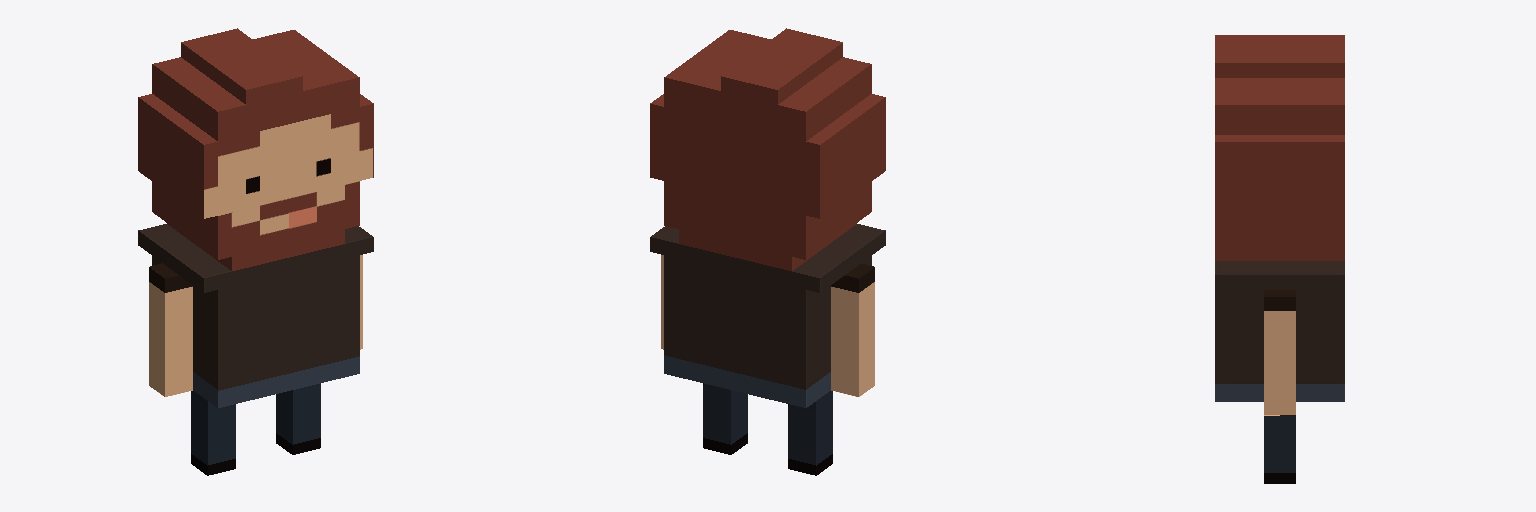
3 renders of one model, left to right at view 1: azimuth 30°, elevation 25°; view 2: azimuth 150°, elevation 25°; view 3: azimuth 270°, elevation 25°, orthographic.
Visible parts, largest first — view 1: head_Plane, body_Plane.001, arm.r_Plane.007, leg.r_Plane.002, leg.l_Plane.005; view 2: head_Plane, body_Plane.001, arm.r_Plane.007, leg.r_Plane.002, leg.l_Plane.005; view 3: head_Plane, body_Plane.001, arm.l_Plane.006, leg.l_Plane.005.
Part boxes in pixels (bbox=[...]): head_Plane: bbox=[138, 28, 373, 270]; body_Plane.001: bbox=[138, 224, 373, 407]; arm.r_Plane.007: bbox=[149, 263, 192, 396]; leg.r_Plane.002: bbox=[191, 391, 235, 475]; leg.l_Plane.005: bbox=[276, 383, 320, 454]; head_Plane: bbox=[650, 28, 885, 270]; body_Plane.001: bbox=[650, 224, 885, 407]; arm.r_Plane.007: bbox=[831, 263, 874, 396]; leg.r_Plane.002: bbox=[788, 391, 832, 475]; leg.l_Plane.005: bbox=[703, 383, 747, 454]; head_Plane: bbox=[1215, 35, 1344, 260]; body_Plane.001: bbox=[1215, 261, 1344, 401]; arm.l_Plane.006: bbox=[1264, 290, 1295, 415]; leg.l_Plane.005: bbox=[1264, 416, 1295, 483].
Bounding box in the file's own units: 0.0899 × 0.1734 × 0.0514.
4 materials, 4 textured.